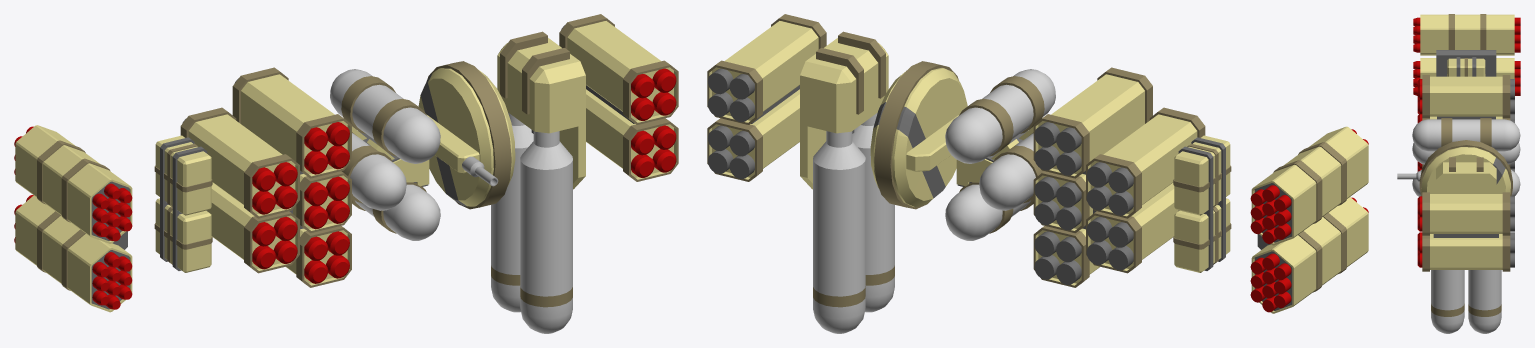
Rendered from EXGSide2.fbx.
3 views of the same model, side by side, from view 1: azimuth 30°, elevation 25°; view 2: azimuth 150°, elevation 25°; view 3: azimuth 270°, elevation 25° (orthographic). The views are drawn at different scales.
Visible parts, largest first — view 1: pCylinder145, pCylinder159, pCube119, pCube154, pCylinder128, pCylinder148, pCube141, pCylinder168, pCube156, pCylinder150, pCube143, pCube157 (+13 smaller); view 2: pCylinder150, pCylinder159, pCube119, pCylinder128, pCube154, pCylinder148, pCylinder168, pCube141, pCube156, pCylinder145, pCylinder140 (×7), pCylinder141 (×7) (+16 smaller); view 3: pCube154, pCylinder159, pCube141, pCube143, pCylinder148, pCylinder150, pCylinder145, pCube119, pCylinder128, pCube173, pCylinder143, pCylinder168 (+13 smaller).
Boxes of the visible parts, x1=… form: pCylinder145: x1=520, y1=131, x2=572, y2=333; pCylinder159: x1=15, y1=125, x2=132, y2=243; pCube119: x1=497, y1=38, x2=585, y2=189; pCube154: x1=232, y1=67, x2=351, y2=178; pCylinder128: x1=418, y1=68, x2=515, y2=206; pCylinder148: x1=330, y1=69, x2=440, y2=163; pCube141: x1=559, y1=14, x2=678, y2=124; pCylinder168: x1=15, y1=195, x2=132, y2=312; pCube156: x1=180, y1=107, x2=299, y2=218; pCylinder150: x1=491, y1=112, x2=533, y2=312; pCube143: x1=586, y1=89, x2=678, y2=181; pCube157: x1=207, y1=183, x2=299, y2=273; pCylinder150: x1=813, y1=131, x2=865, y2=333; pCylinder159: x1=1251, y1=126, x2=1368, y2=245; pCube119: x1=800, y1=38, x2=888, y2=189; pCylinder128: x1=870, y1=68, x2=967, y2=207; pCube154: x1=1033, y1=67, x2=1152, y2=178; pCylinder148: x1=945, y1=69, x2=1055, y2=163; pCylinder168: x1=1251, y1=197, x2=1368, y2=313; pCube141: x1=707, y1=14, x2=826, y2=124; pCube156: x1=1086, y1=107, x2=1205, y2=218; pCylinder145: x1=852, y1=113, x2=894, y2=312; pCylinder140 (×7): x1=729, y1=74, x2=1133, y2=262; pCylinder141 (×7): x1=729, y1=97, x2=1133, y2=284; pCube154: x1=1422, y1=75, x2=1510, y2=118; pCylinder159: x1=1420, y1=14, x2=1514, y2=55; pCube141: x1=1422, y1=192, x2=1510, y2=235; pCube143: x1=1422, y1=234, x2=1510, y2=271; pCylinder148: x1=1412, y1=118, x2=1520, y2=151; pCylinder150: x1=1468, y1=270, x2=1501, y2=333; pCylinder145: x1=1431, y1=270, x2=1464, y2=333; pCube119: x1=1436, y1=162, x2=1496, y2=193; pCylinder128: x1=1421, y1=147, x2=1510, y2=193; pCube173: x1=1436, y1=50, x2=1496, y2=76; pCylinder143: x1=1419, y1=140, x2=1512, y2=196; pCylinder168: x1=1420, y1=58, x2=1514, y2=78.
Size of the model in its own units: 27.15 by 12.38 by 7.78.
